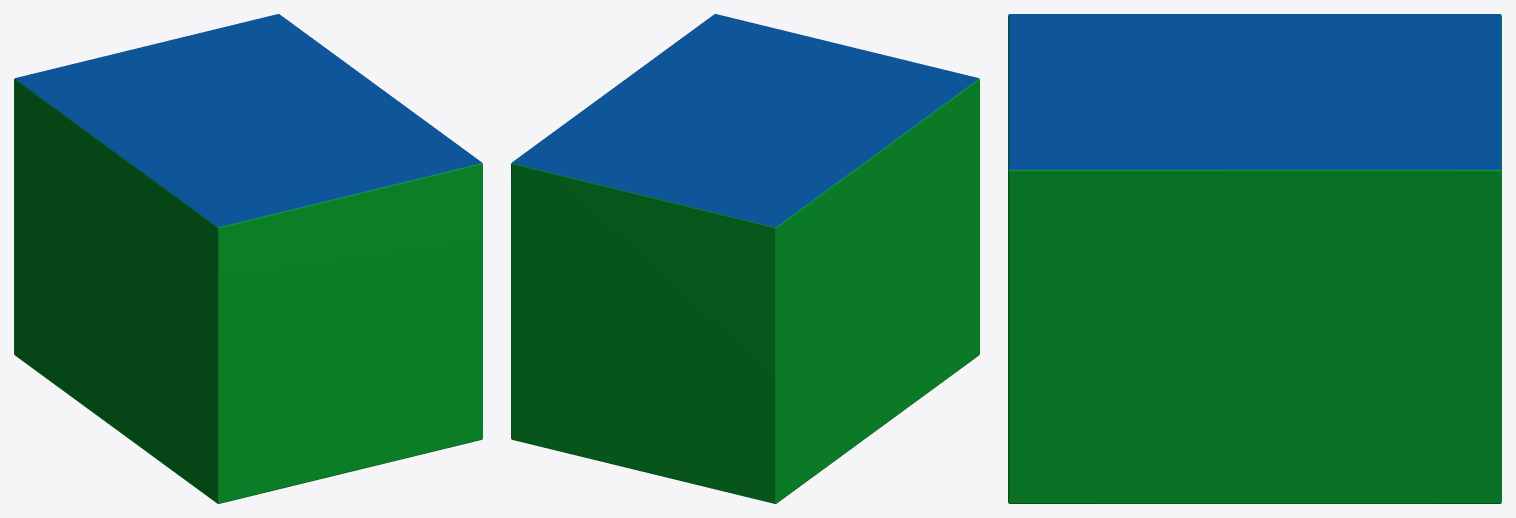
File: SM_sheets_3.fbx
3 views of the same model, side by side, from view 1: azimuth 30°, elevation 25°; view 2: azimuth 150°, elevation 25°; view 3: azimuth 270°, elevation 25° (orthographic). The views are drawn at different scales.
Visible parts, largest first — view 1: SM_sheets_3; view 2: SM_sheets_3; view 3: SM_sheets_3.
Part boxes in pixels (x1,y1,x2,y2): SM_sheets_3: (14,14,482,503); SM_sheets_3: (511,14,979,503); SM_sheets_3: (1008,14,1501,503).
Size of the model in its own units: 0.54 by 0.5389 by 0.72.
